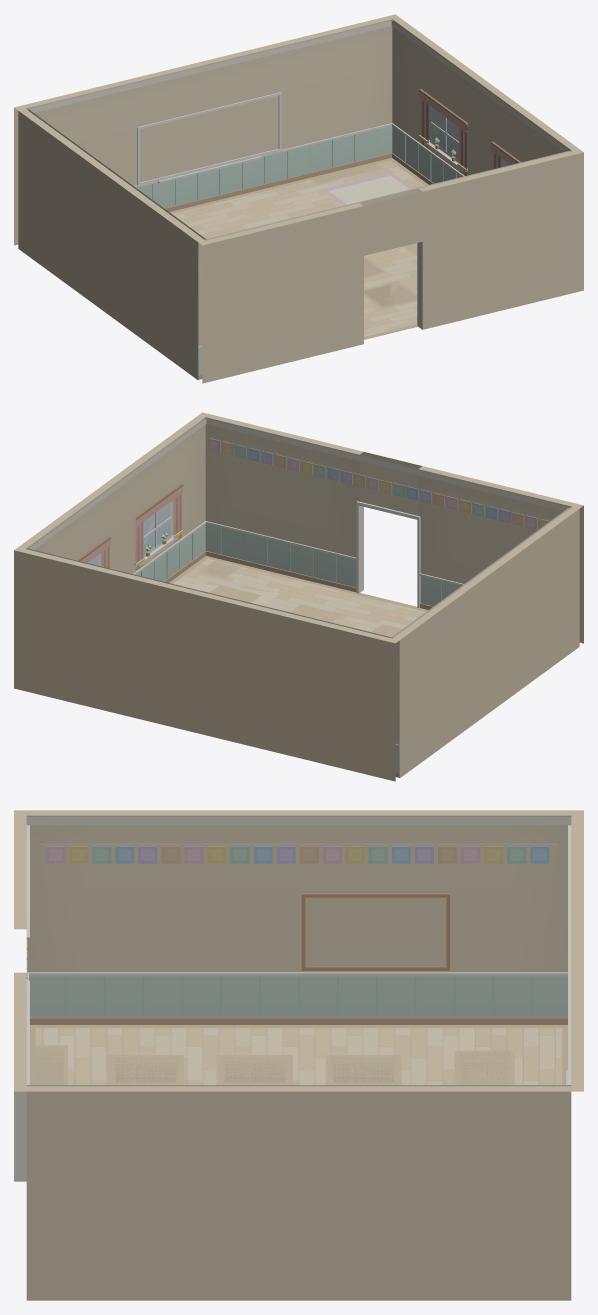
Rendered from k1_interior_shell.glb.
3 views of the same model, one above another, from view 1: azimuth 30°, elevation 25°; view 2: azimuth 150°, elevation 25°; view 3: azimuth 270°, elevation 25° (orthographic). The views are drawn at different scales.
Visible parts, largest first — view 1: dinding_selatan, dinding_utara, dinding_barat, dinding_timur, lantai; view 2: dinding_utara, dinding_selatan, dinding_barat, dinding_timur, lantai; view 3: dinding_timur, dinding_barat, lantai, dinding_selatan, dinding_utara.
Boxes of the visible parts, left/top/right/bottom form: dinding_selatan: left=198, top=149, right=583, bottom=383; dinding_utara: left=14, top=14, right=399, bottom=245; dinding_barat: left=18, top=108, right=206, bottom=379; dinding_timur: left=390, top=17, right=579, bottom=184; lantai: left=169, top=158, right=428, bottom=339; dinding_utara: left=14, top=547, right=399, bottom=781; dinding_selatan: left=198, top=412, right=583, bottom=643; dinding_barat: left=391, top=506, right=579, bottom=777; dinding_timur: left=18, top=415, right=207, bottom=582; lantai: left=169, top=556, right=428, bottom=637; dinding_timur: left=26, top=1085, right=571, bottom=1300; dinding_barat: left=26, top=810, right=571, bottom=1024; lantai: left=30, top=1025, right=567, bottom=1084; dinding_selatan: left=14, top=810, right=29, bottom=1181; dinding_utara: left=566, top=810, right=583, bottom=1091.
Bounding box in the file's own units: 10.4 × 3.6 × 8.9.
